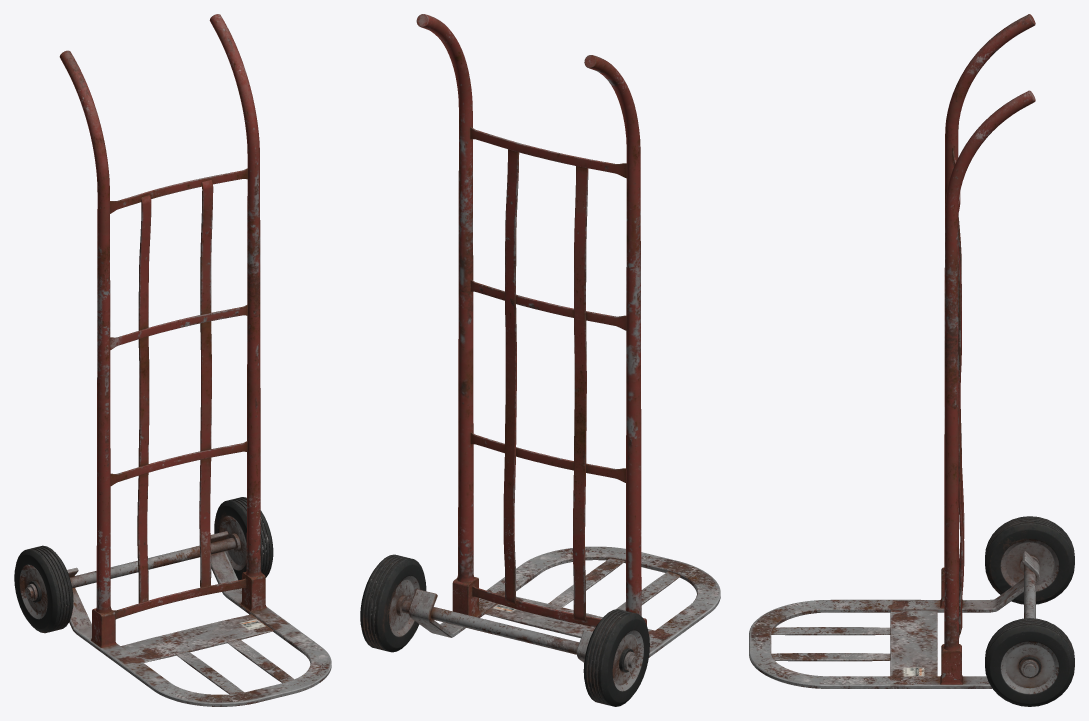
3 renders of one model, left to right at view 1: azimuth 30°, elevation 25°; view 2: azimuth 150°, elevation 25°; view 3: azimuth 270°, elevation 25°, orthographic. The views are drawn at different scales.
Parts seen in each view (by area): view 1: hand_truck; view 2: hand_truck; view 3: hand_truck.
Boxes of the visible parts, <box> form: hand_truck: <box>14,14,331,706</box>; hand_truck: <box>360,14,720,706</box>; hand_truck: <box>749,14,1074,706</box>.
Size of the model in its own units: 0.5933 by 1.4 by 0.6925.
Materials: 1 (1 with a texture image).
